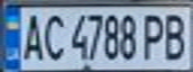4: (66, 10, 87, 61)
7: (84, 10, 106, 61)
8: (118, 10, 142, 61), (103, 10, 124, 61)
A: (18, 9, 45, 62)
B: (160, 9, 193, 62)
C: (39, 10, 69, 62)
P: (139, 10, 169, 61)
